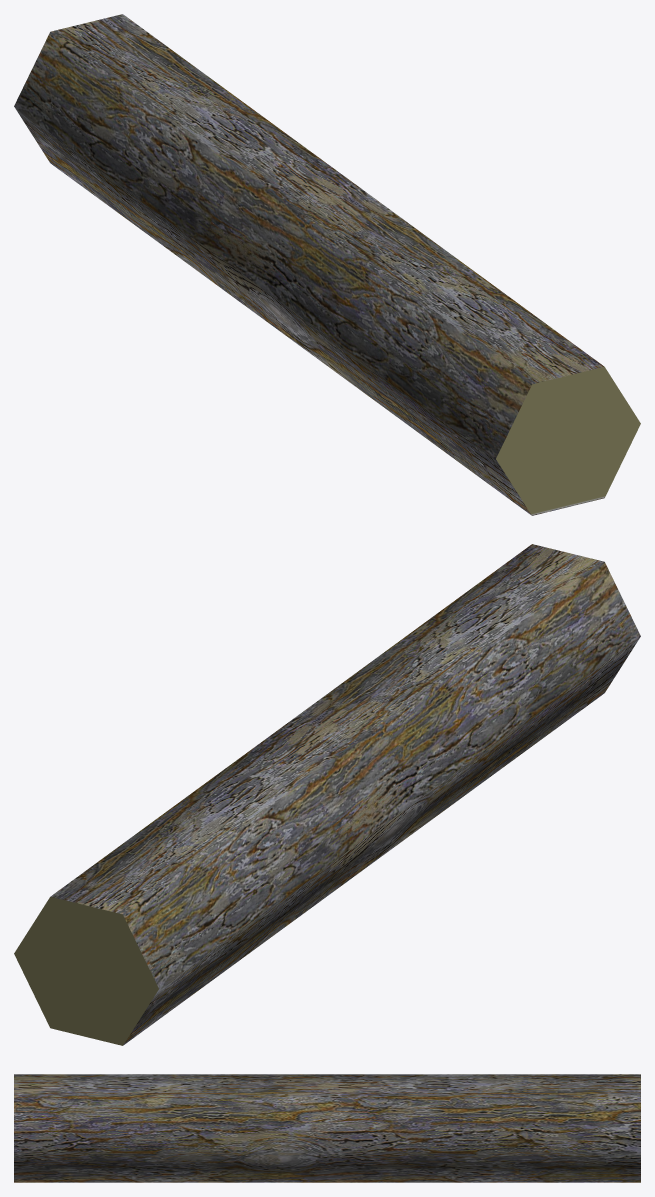
Rendered from wood.fbx.
3 renders of one model, top to bottom at view 1: azimuth 30°, elevation 25°; view 2: azimuth 150°, elevation 25°; view 3: azimuth 270°, elevation 25°, orthographic. The views are drawn at different scales.
Visible parts, largest first — view 1: Cylinder001; view 2: Cylinder001; view 3: Cylinder001.
Boxes of the visible parts, x1,y1,x2,y2 form: Cylinder001: (14,14,640,515); Cylinder001: (14,544,640,1045); Cylinder001: (14,1074,640,1182).
Bounding box in the file's own units: 4.79 × 4.15 × 27.57.
1 material, 1 textured.
